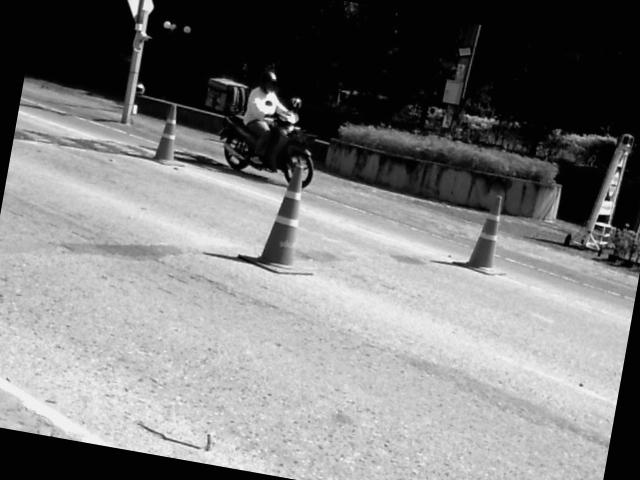helmet: (259, 69, 276, 88)
motor: (218, 112, 315, 187)
person: (243, 70, 288, 163)
